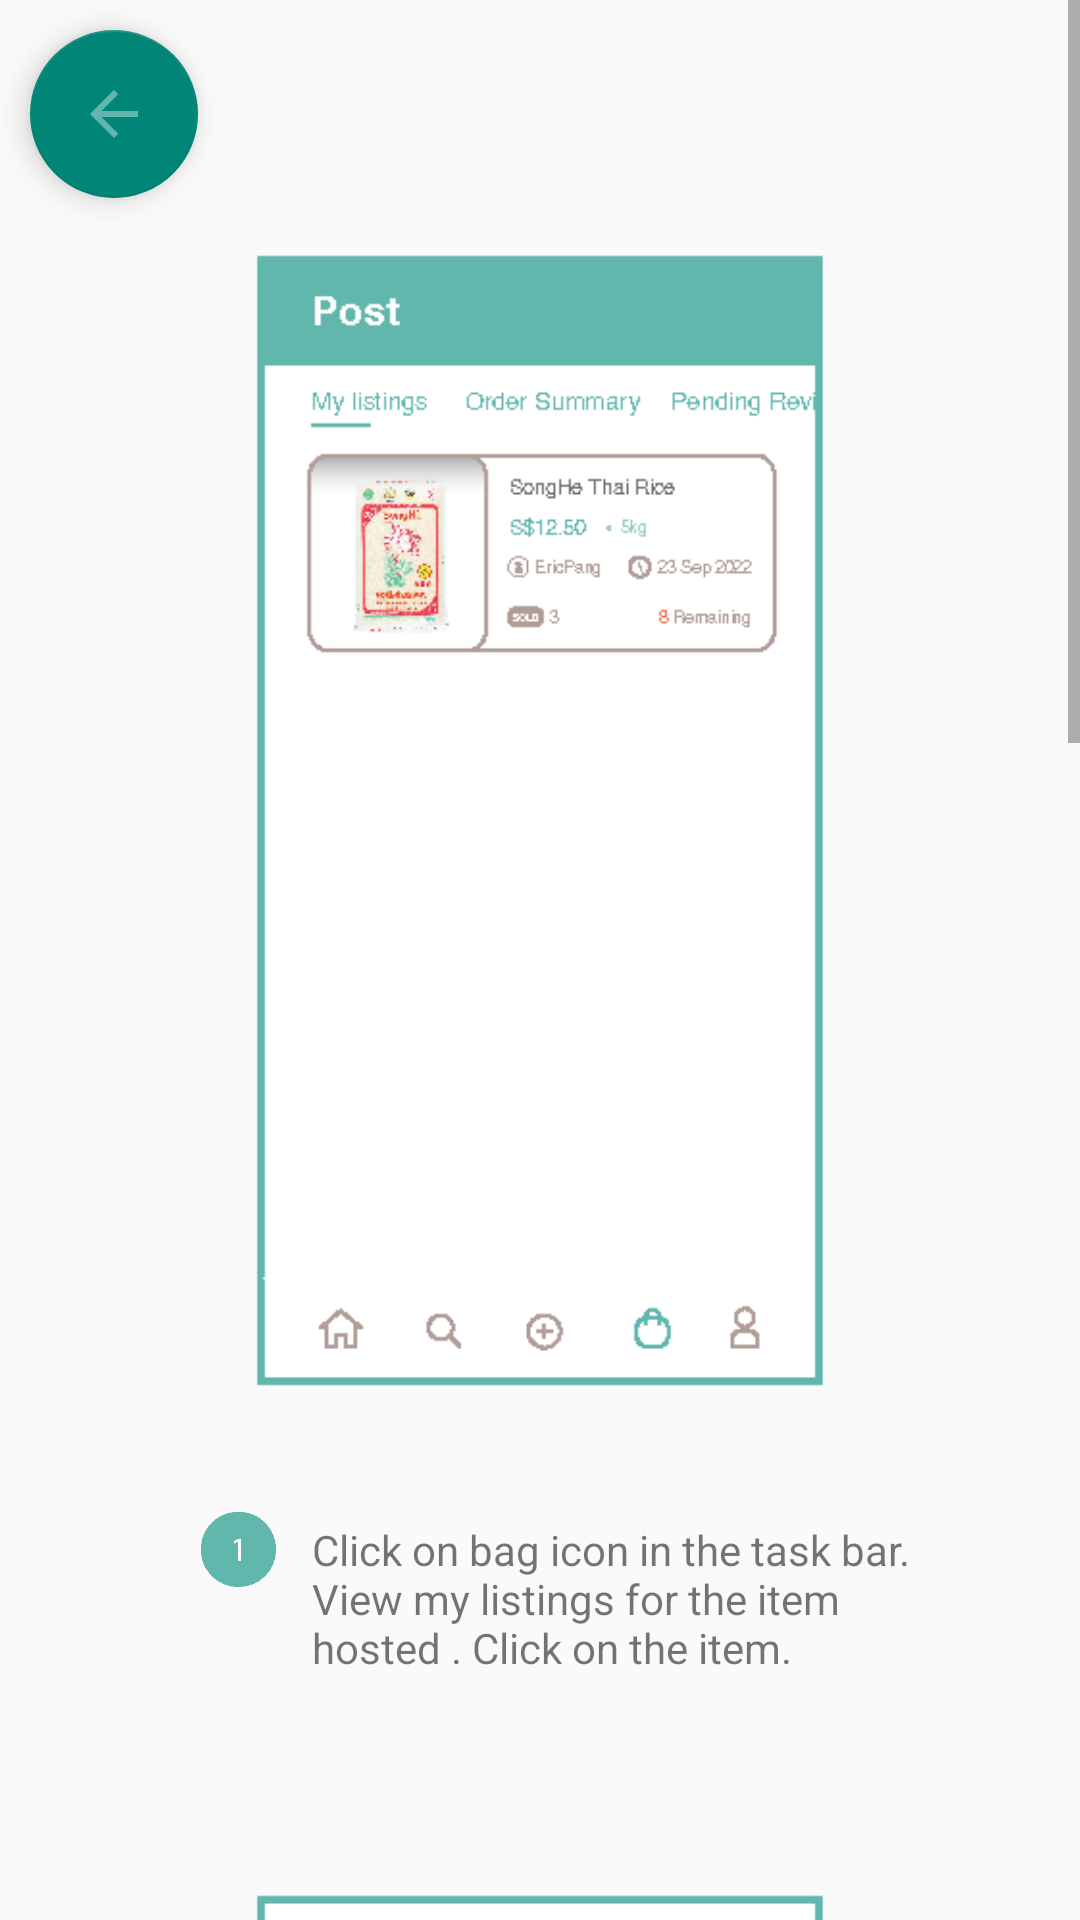

Point at icon controls on the screen. Image size 1080×1920, points as (x=x, y=y).
arrow back: (x=114, y=114)
